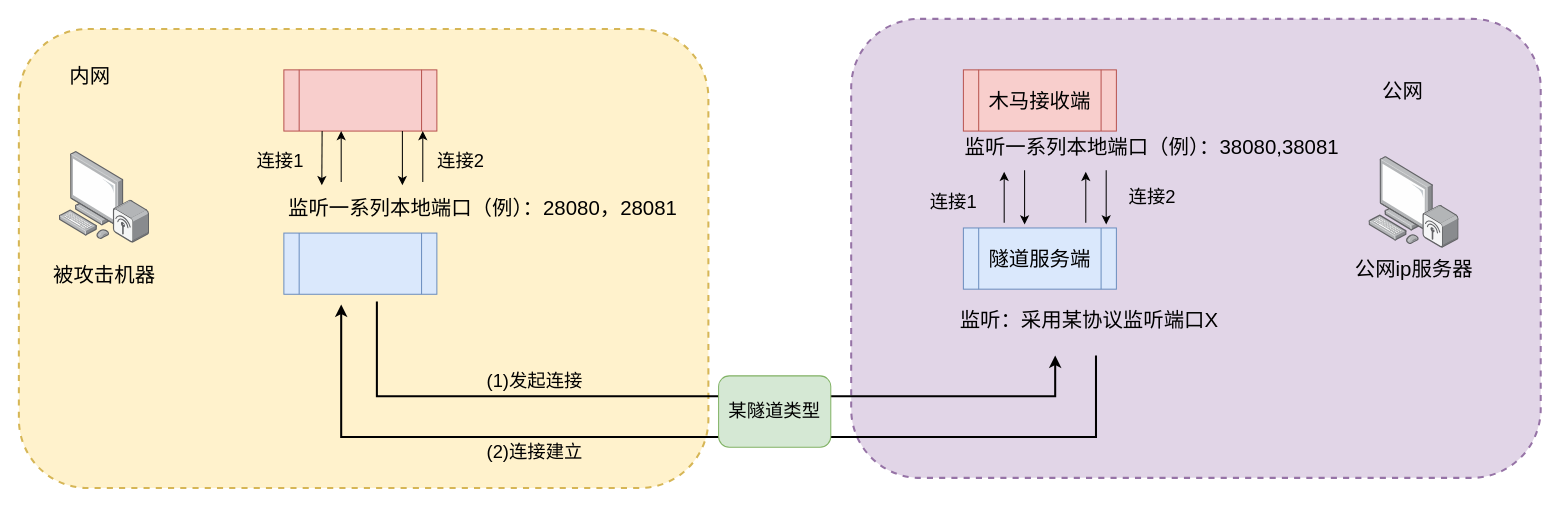
The diagram is 1559 pixels wide and 506 high, and some of its shapes have lost their labels. Each missing label, with the box of its shape:
木马: (283, 69, 437, 131)
隧道客户端: (283, 232, 437, 294)
